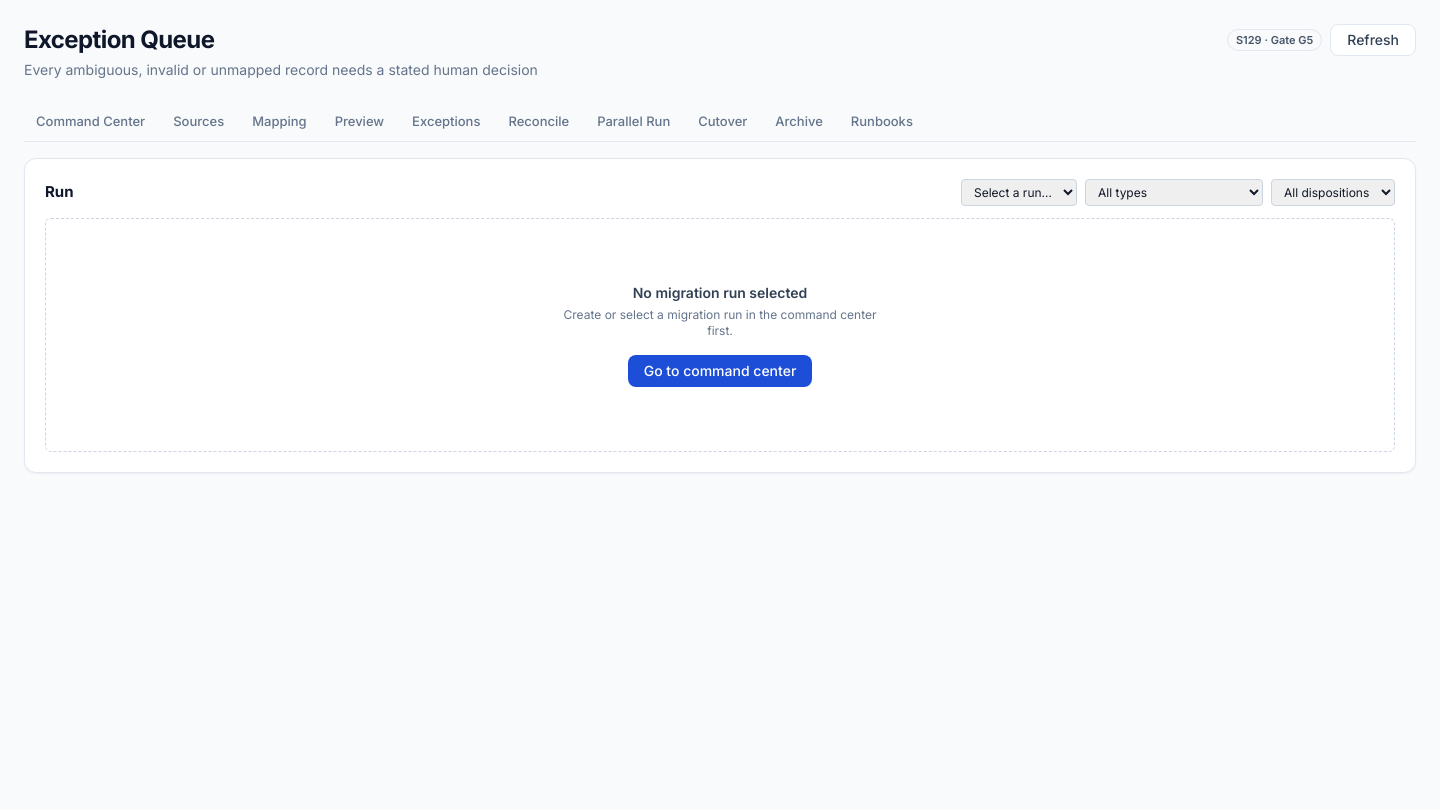
Test case: MigrationExceptions › will not submit a disposition without a stated reason
Select "run-a" in the dropdown with test id "exceptions-run-select". click: (1019,192)
box: left=961, top=178, right=1077, bottom=206
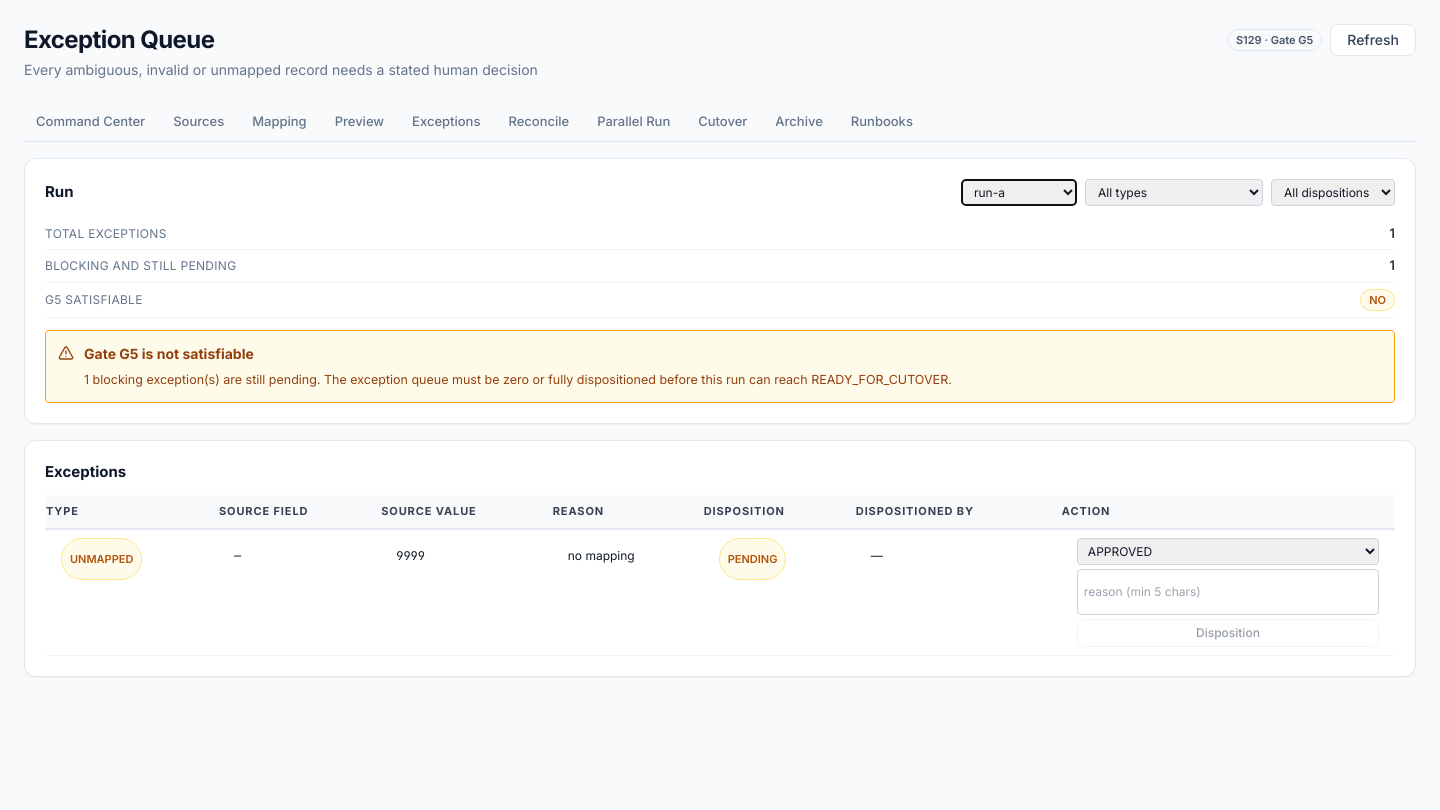
Now the button with test id "exception-submit-x1" is disabled, box left=1077, top=619, right=1379, bottom=647
Type "mapped to suspense pending review" into the field with test id "exception-reason-x1". click: (1228,592)
box: left=1077, top=569, right=1379, bottom=615
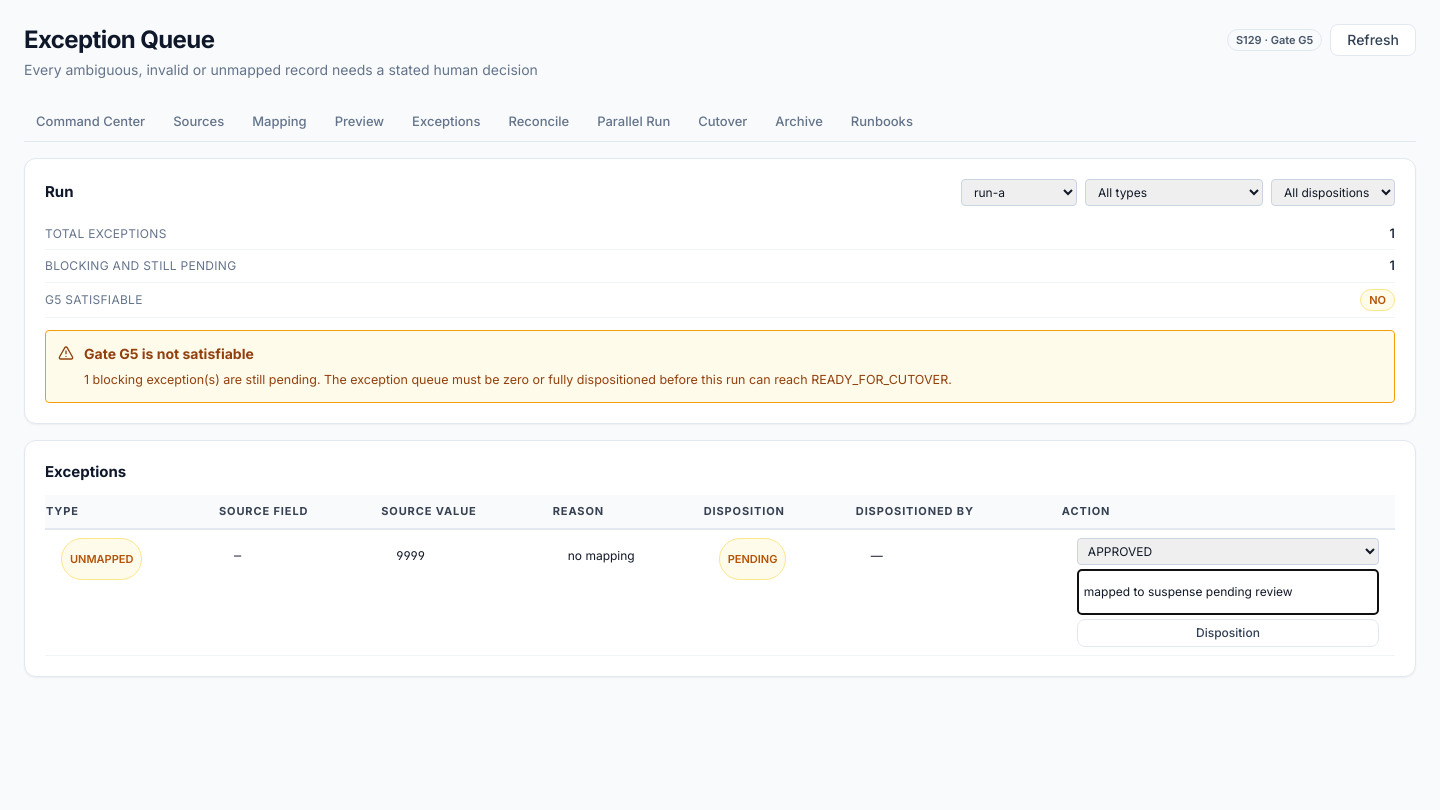
Now the button with test id "exception-submit-x1" is enabled, box left=1077, top=619, right=1379, bottom=647
